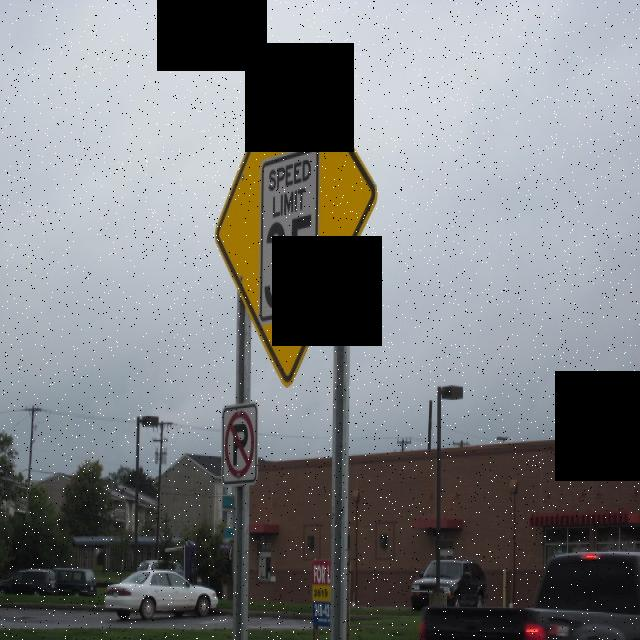regulatory: (257, 142, 320, 328), (220, 398, 262, 492)
warning: (209, 43, 375, 389)
